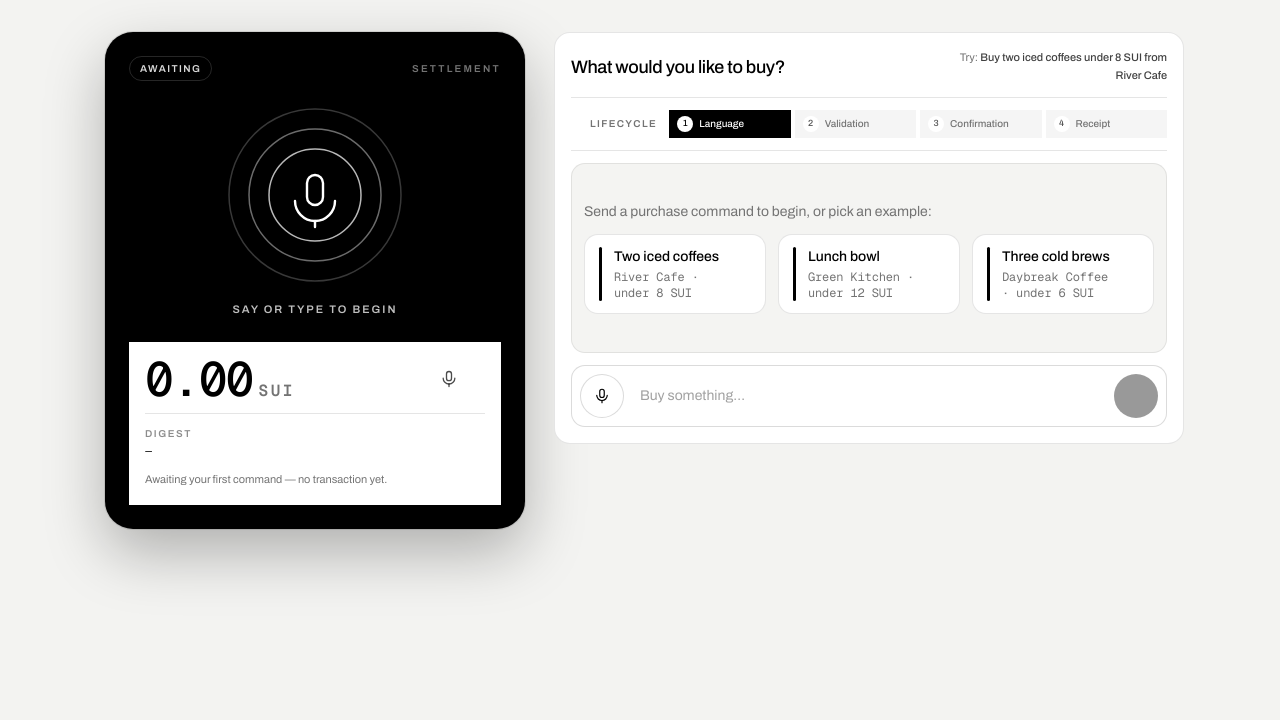
Test: CommerceChat — fallback routing provenance badge › surfaces a LOCAL SAFETY ROUTE label that never implies Gonka ran
Type "Buy two iced coffees under 8 SUI from River Cafe" into the text box.
click(869, 396); type("Buy two iced coffees under 8 SUI from River Cafe")  # box [632,374,1106,418]
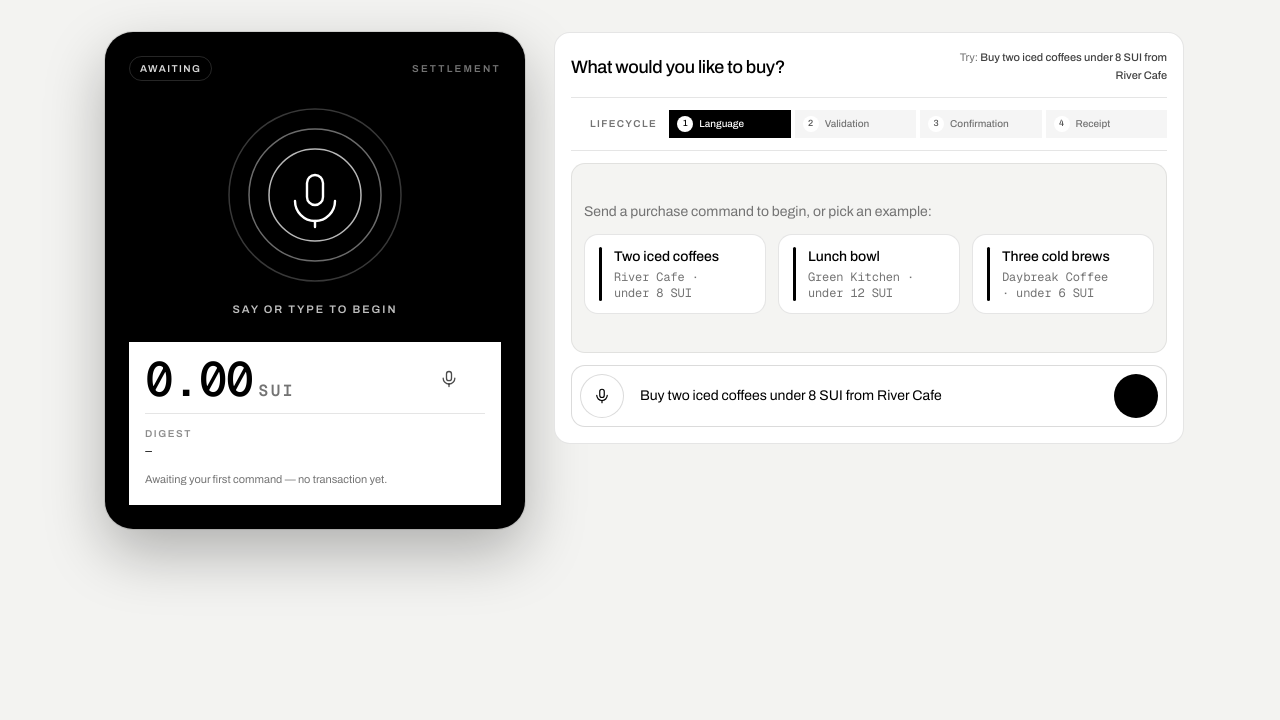
Click the button named "send".
click(1136, 396)  # box [1114,374,1158,418]
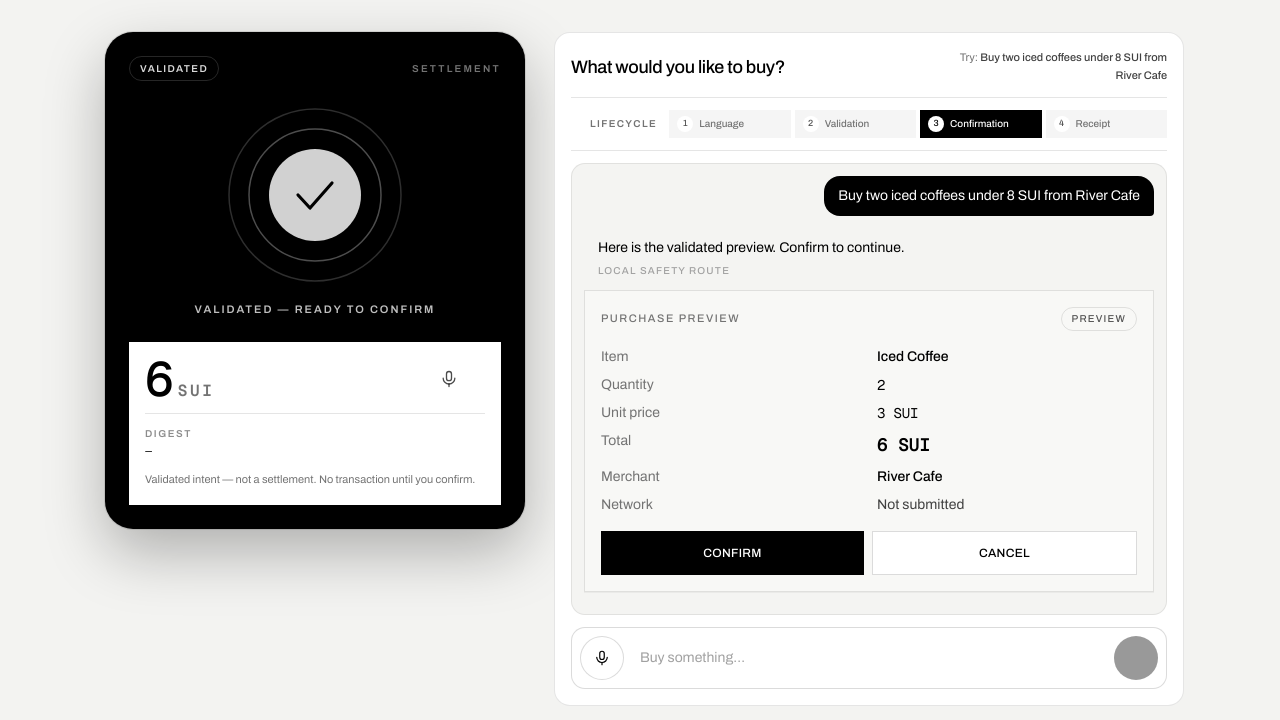
Expected: the element with test id "routing-provenance" does not show "not_configured", [598,264,1140,278]
Expected: the element with test id "routing-provenance" is shown, [598,264,1140,278]
Expected: the element with test id "routing-provenance" reads "Local safety route", [598,265,730,276]
